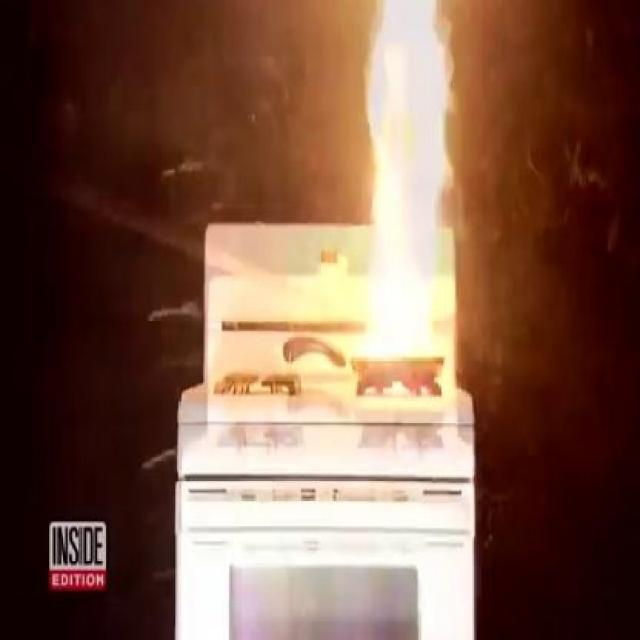fire: (340, 22, 460, 356)
